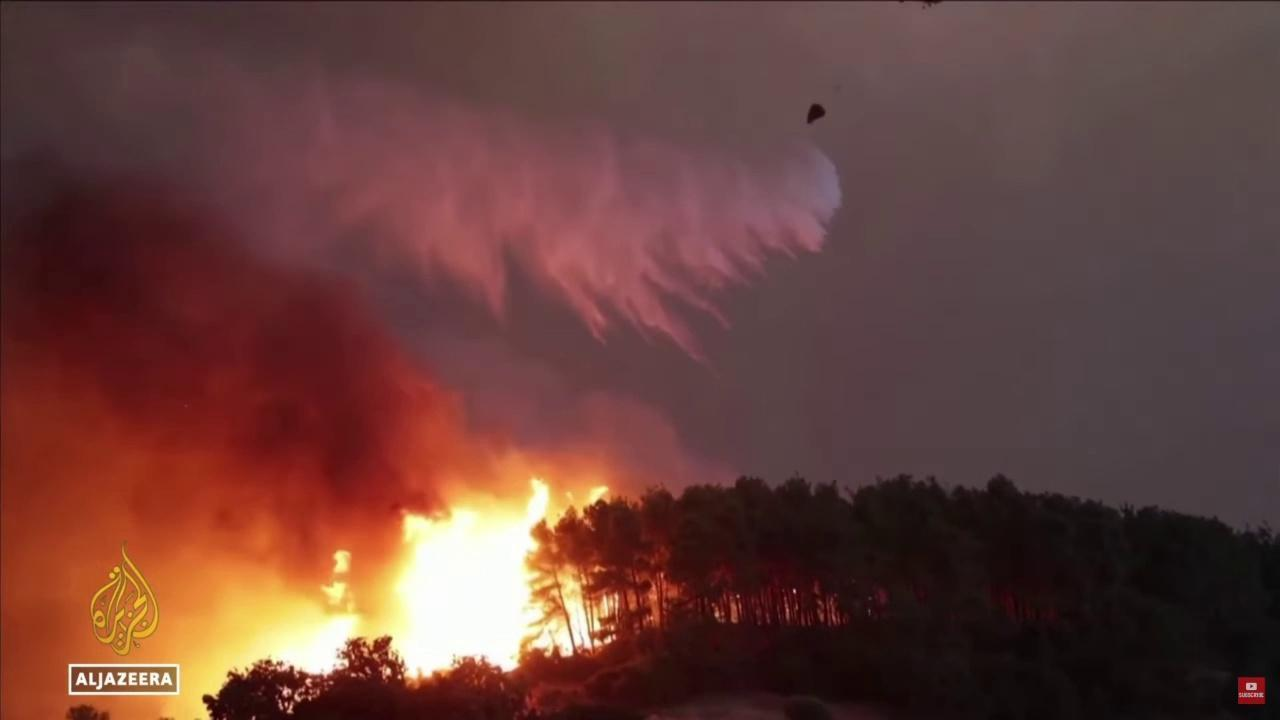fire: (260, 474, 618, 684)
smoke: (0, 173, 752, 720)
